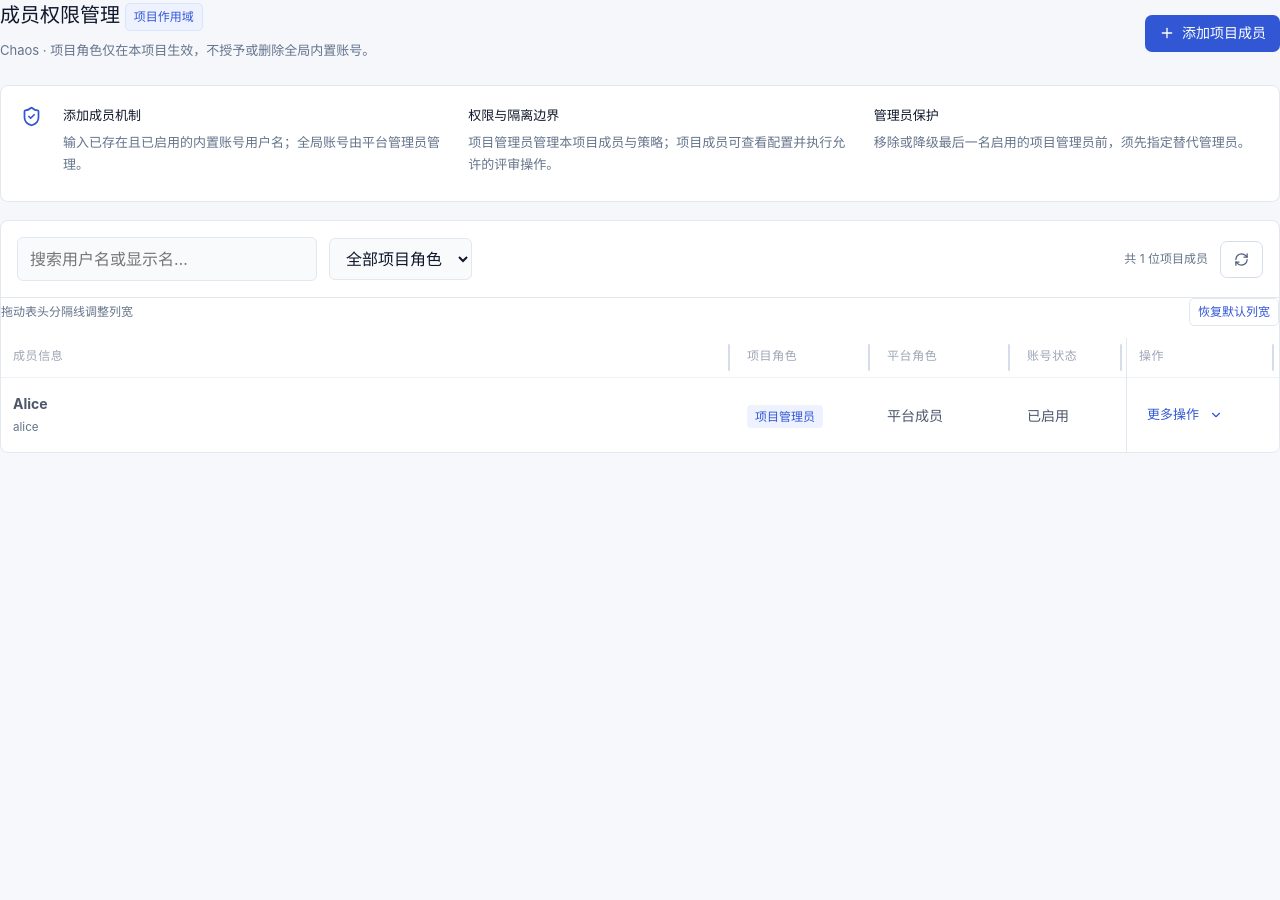
it: removes the confirmed row only after successful deletion
The image size is (1280, 900).
Expected: the text "Alice" is shown, [13,395,48,412]
Click the button with aria-label "Alice 的更多操作".
click(1185, 415)  # box [1139,397,1231,433]
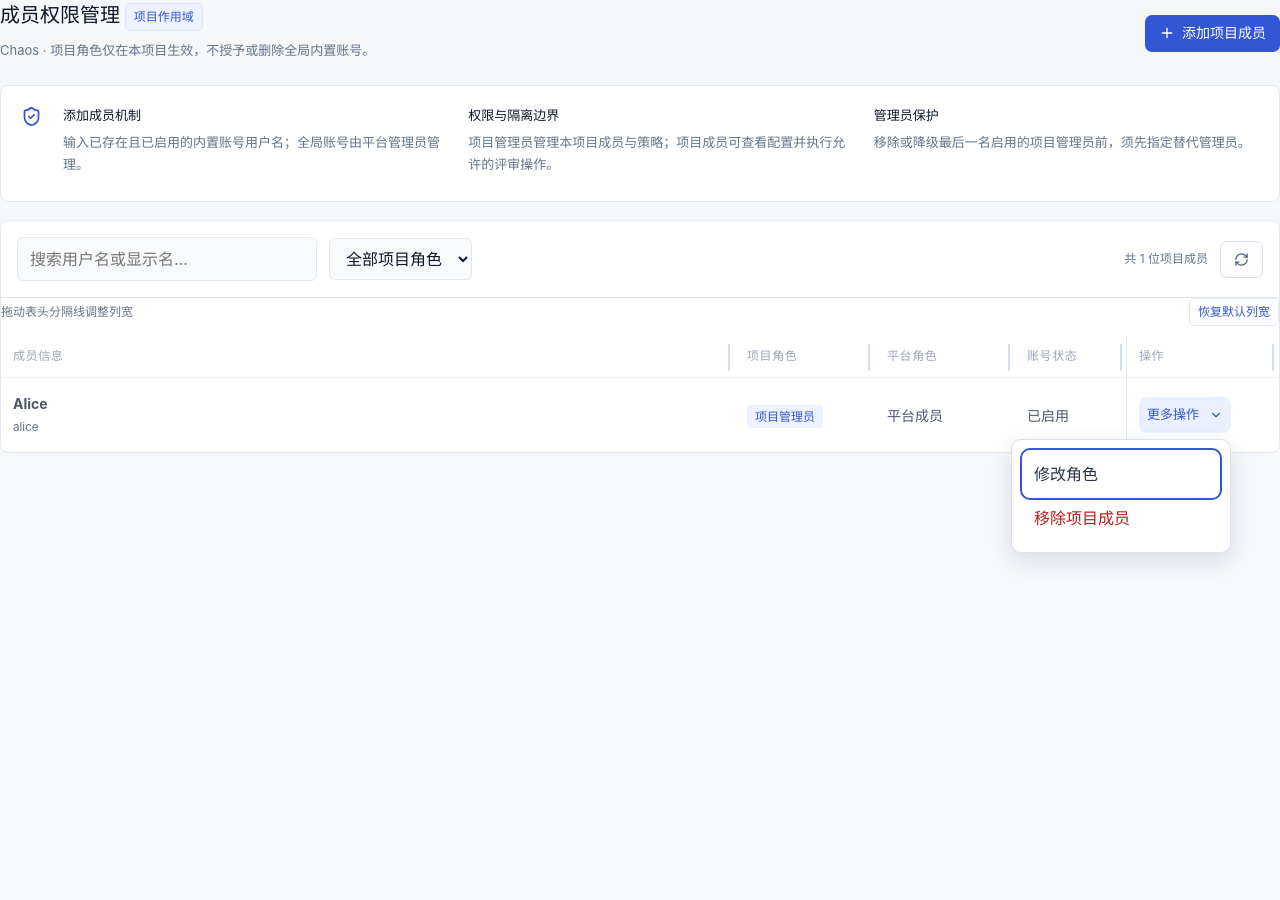
Click the button with aria-label "移除 Alice".
click(1121, 518)  # box [1024,496,1218,540]
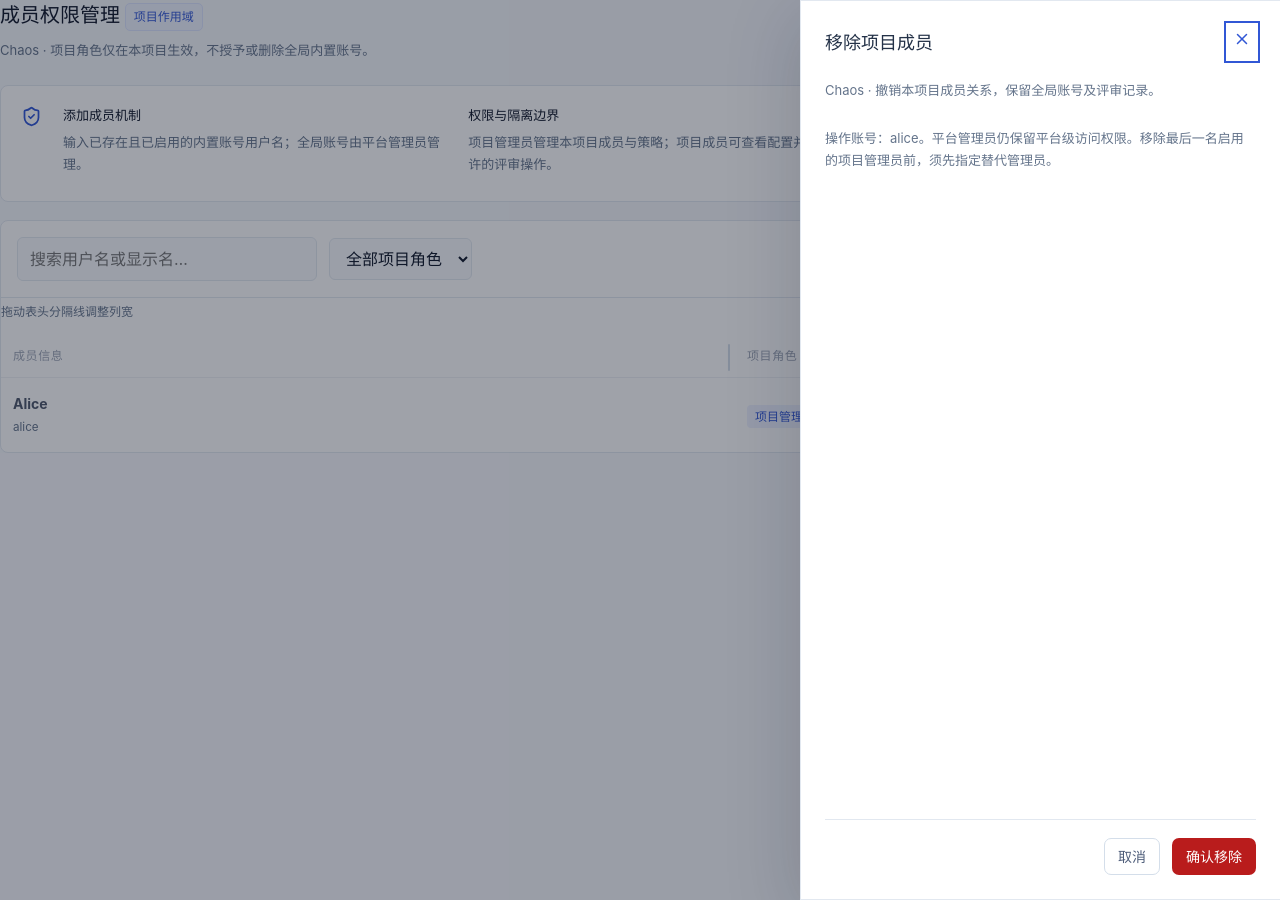
Click the button "确认移除".
click(1214, 856)  # box [1172,838,1256,875]
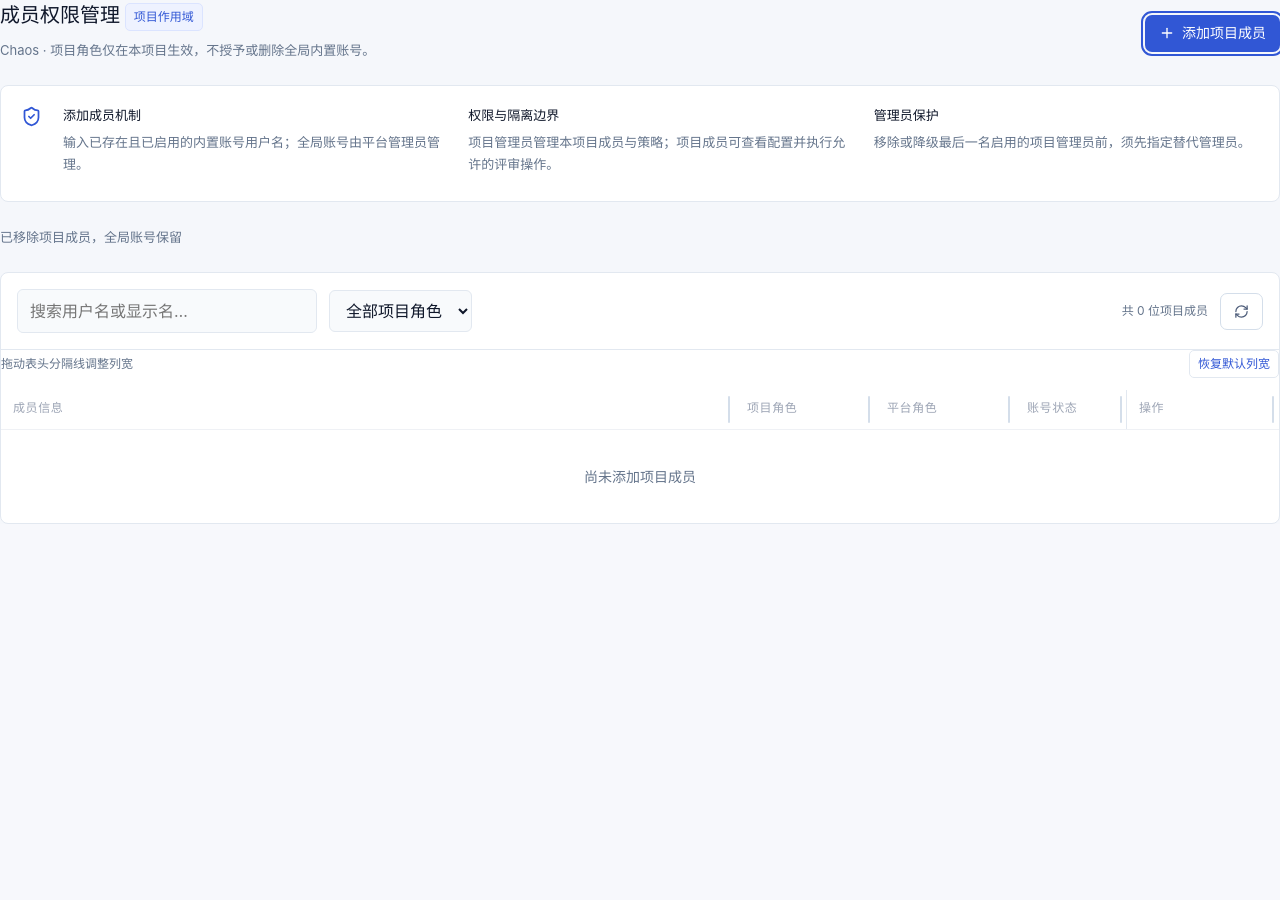
Now the text "尚未添加项目成员" is shown, box [1,429,1279,523]
Now the message shows "全局账号保留", box [0,229,182,245]
